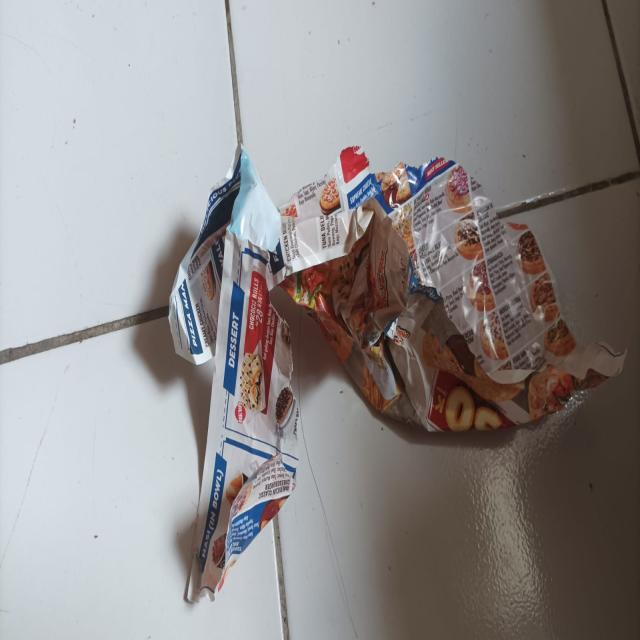Organik: (170, 148, 628, 601)
